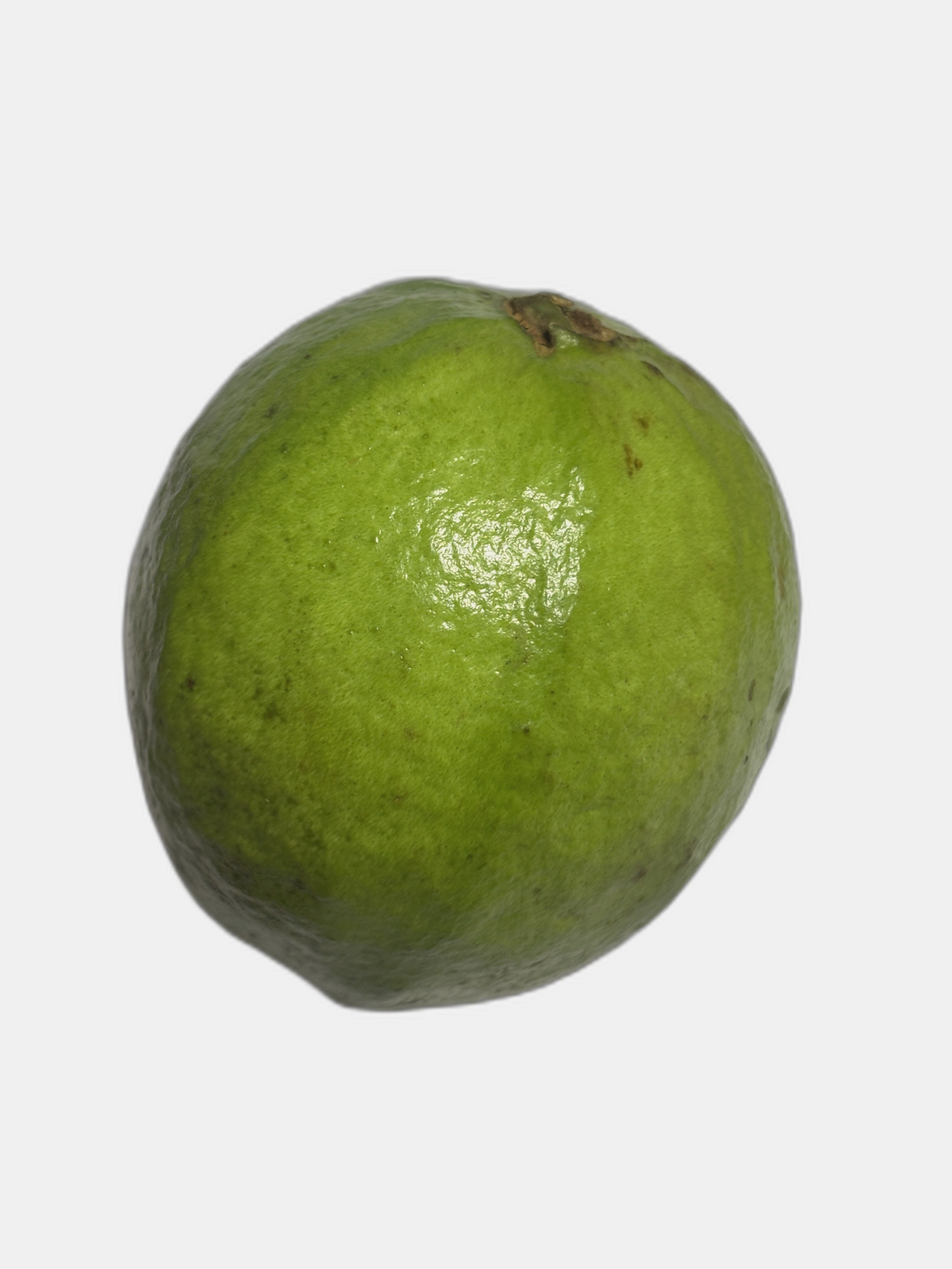guava: (34, 111, 812, 1085)
